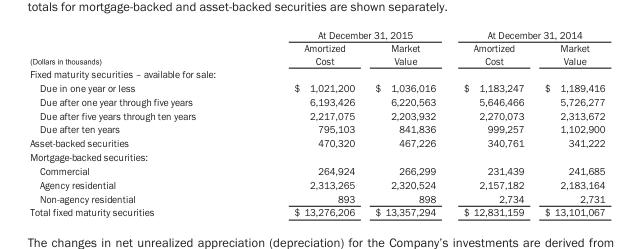table: (29, 28, 604, 217)
table column: (29, 28, 244, 217), (244, 28, 364, 217), (364, 28, 449, 217), (449, 28, 533, 217), (533, 28, 604, 217)
table column header: (29, 28, 604, 67)
table projected row header: (29, 149, 604, 163), (29, 67, 604, 80)
table row: (29, 41, 604, 67), (29, 80, 604, 94), (29, 94, 604, 108), (29, 121, 604, 135), (29, 135, 604, 149), (29, 149, 604, 163), (29, 163, 604, 177), (29, 190, 604, 204), (29, 28, 604, 41), (29, 67, 604, 80), (29, 108, 604, 121), (29, 177, 604, 190), (29, 204, 604, 217)
table spanning cell: (29, 28, 244, 67), (244, 28, 449, 41), (449, 28, 604, 41)
